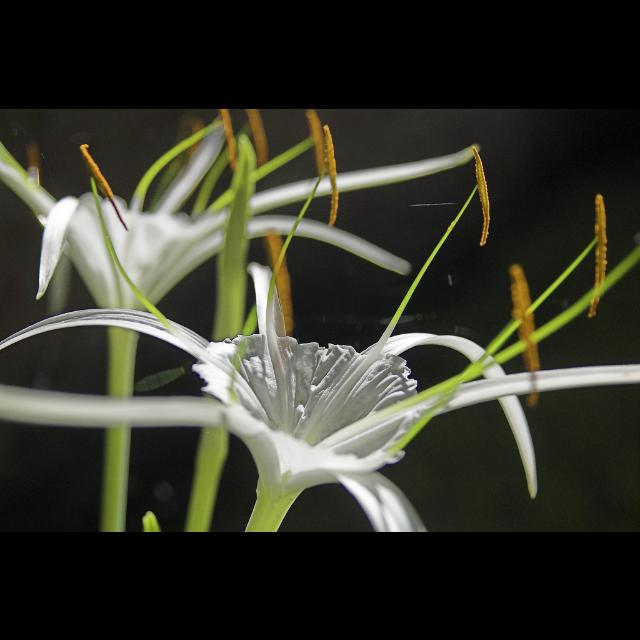Flower: (1, 259, 640, 531), (1, 110, 482, 312)
